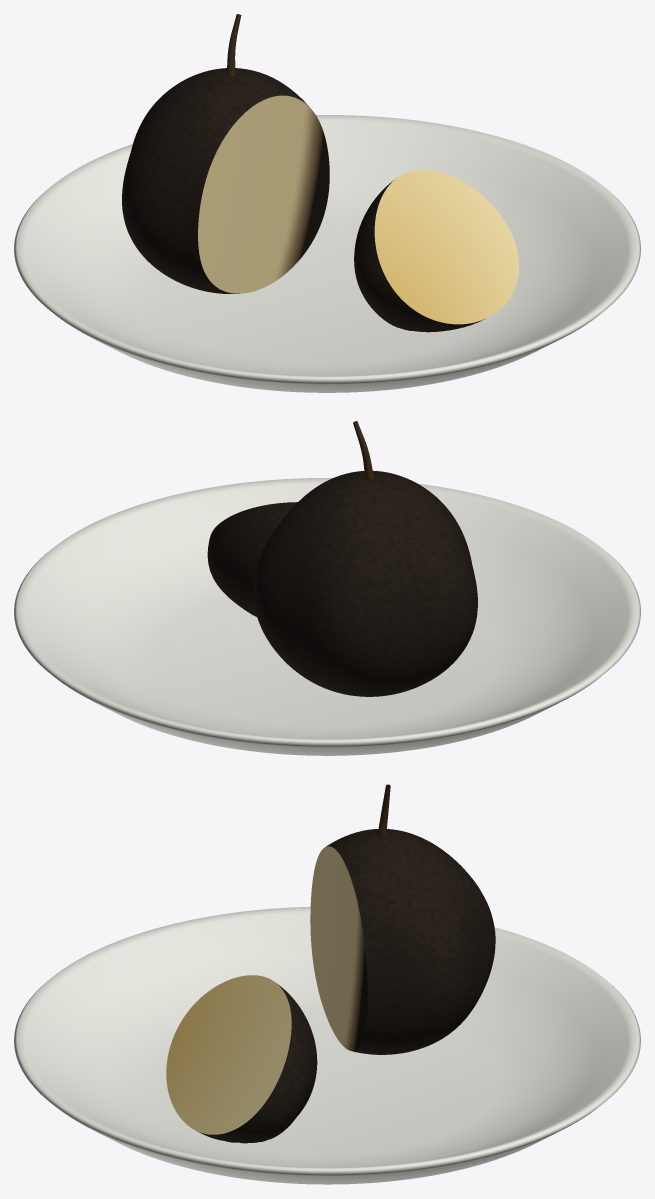
Rendered from shenyang-dish-before-flesh-fix.glb.
3 renders of one model, top to bottom at view 1: azimuth 30°, elevation 25°; view 2: azimuth 150°, elevation 25°; view 3: azimuth 270°, elevation 25°, orthographic.
Visible parts, largest first — view 1: shenyang-dish; view 2: shenyang-dish; view 3: shenyang-dish.
Boxes of the visible parts, left/top/right/bottom form: shenyang-dish: left=14, top=14, right=640, bottom=392; shenyang-dish: left=14, top=421, right=640, bottom=755; shenyang-dish: left=14, top=784, right=640, bottom=1184.
Size of the model in its own units: 0.196 by 0.0972 by 0.196.
4 materials, 4 textured.
